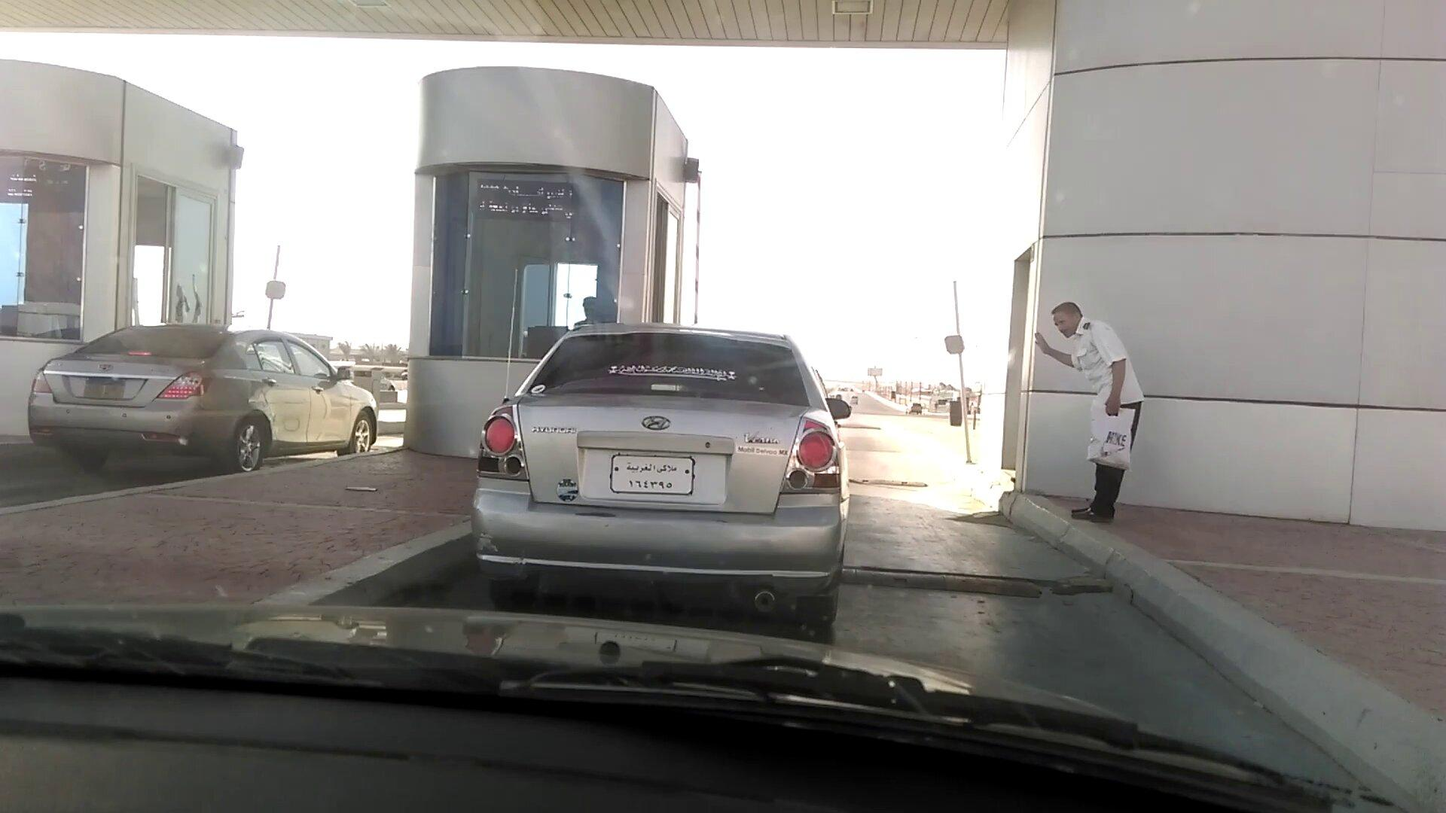Bump: (842, 568, 1036, 595), (843, 471, 938, 493), (840, 424, 889, 429)
